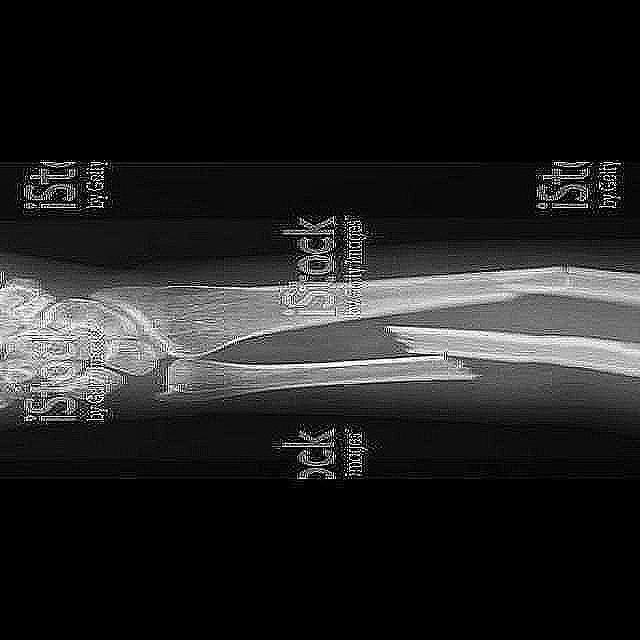bone: (367, 318, 502, 391), (482, 254, 606, 313)
